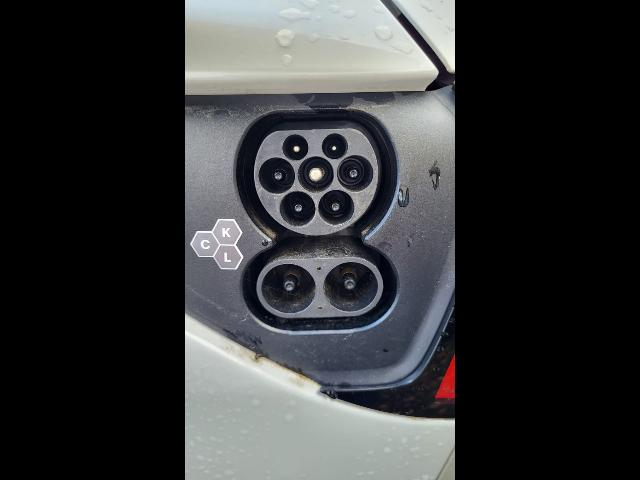inlet: (254, 128, 379, 235)
inlet-above-left: (282, 135, 309, 161)
inlet-above-right: (322, 133, 348, 160)
inlet-below-left: (280, 191, 316, 227)
inlet-below-right: (318, 190, 354, 227)
inlet-circle: (298, 156, 334, 193)
inlet-circle-left: (259, 157, 295, 194)
inlet-circle-right: (337, 155, 374, 192)
inlet-minus: (323, 262, 378, 312)
inlet-plus: (261, 264, 316, 313)
